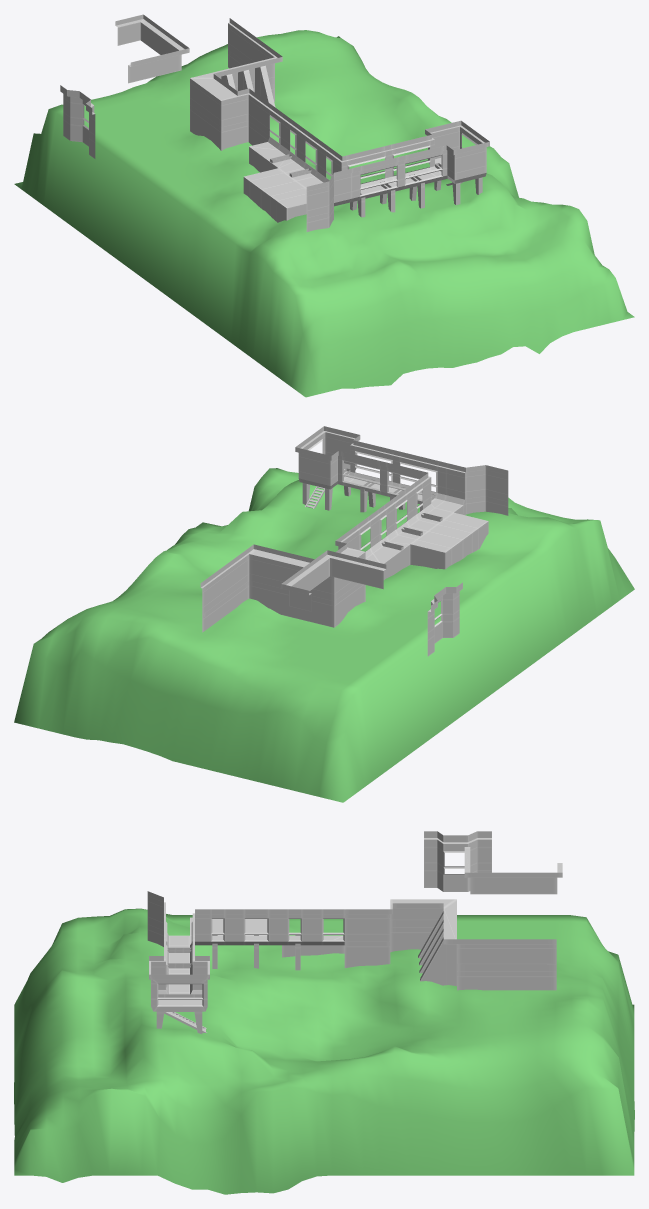
File: NewExterior.fbx
3 renders of one model, top to bottom at view 1: azimuth 30°, elevation 25°; view 2: azimuth 150°, elevation 25°; view 3: azimuth 270°, elevation 25°, orthographic. The views are drawn at different scales.
Visible parts, largest first — view 1: NewGround, NewExterior; view 2: NewGround, NewExterior; view 3: NewGround, NewExterior.
Boxes of the visible parts, x1,y1,x2,y2 form: NewGround: (14,30,634,397); NewExterior: (60,14,489,231); NewGround: (14,468,634,802); NewExterior: (200,426,508,656); NewGround: (14,908,634,1194); NewExterior: (147,831,562,1033).
Size of the model in its own units: 3919 by 2007 by 5641.
